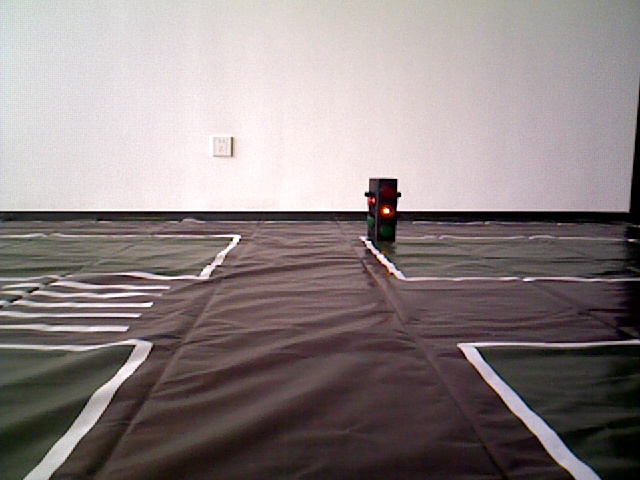yellow: (364, 178, 403, 247)
